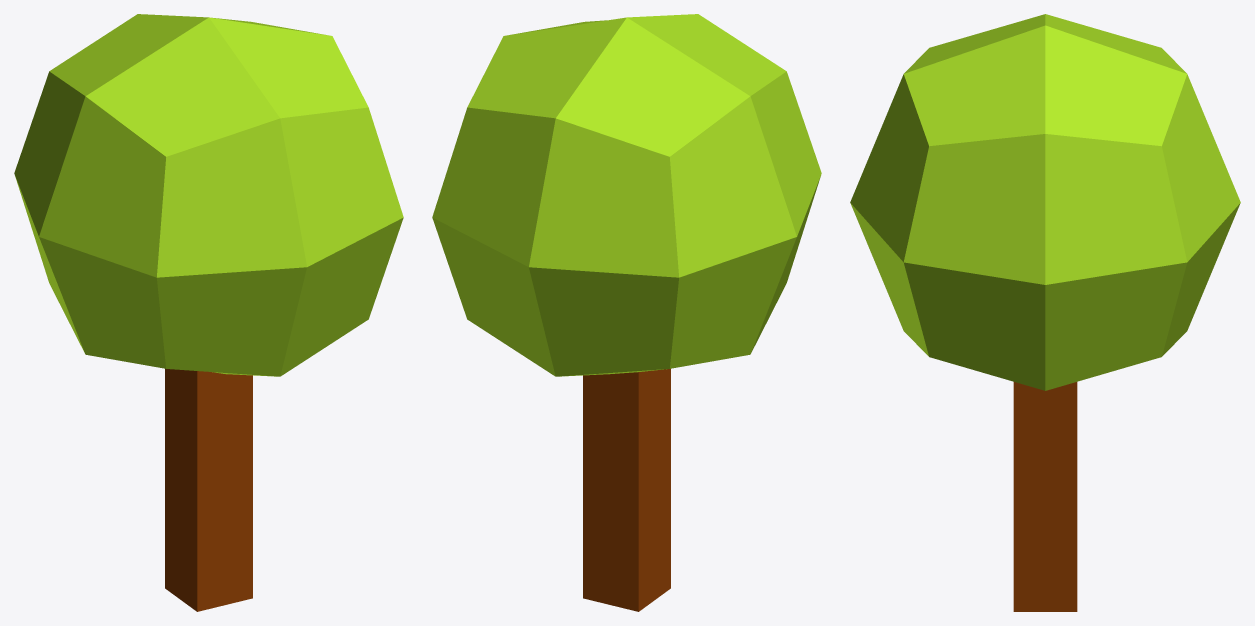
Rendered from low_poly_tree.glb.
3 renders of one model, left to right at view 1: azimuth 30°, elevation 25°; view 2: azimuth 150°, elevation 25°; view 3: azimuth 270°, elevation 25°, orthographic.
Visible parts, largest first — view 1: Cube, Cube.001; view 2: Cube, Cube.001; view 3: Cube, Cube.001.
Boxes of the visible parts, x1,y1,x2,y2 form: Cube: (14,14,403,376); Cube.001: (165,368,252,611); Cube: (432,14,821,376); Cube.001: (583,368,670,611); Cube: (850,14,1240,390); Cube.001: (1013,382,1077,611).
Bounding box in the file's own units: 7.16 × 11.59 × 7.16.
